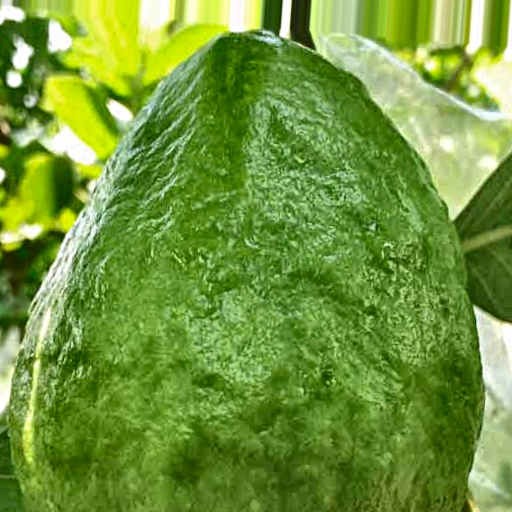guava: (28, 57, 459, 422)
